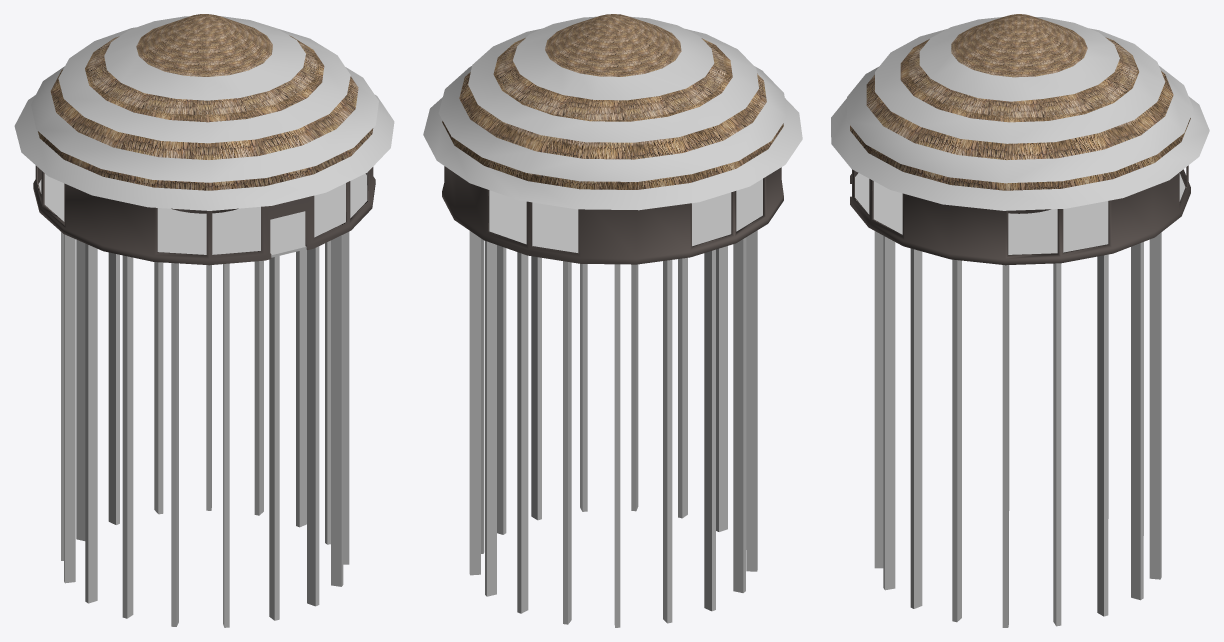
Rendered from Bar Hut.fbx.
The picture shows the model from 3 angles, left to right: view 1: azimuth 30°, elevation 25°; view 2: azimuth 150°, elevation 25°; view 3: azimuth 270°, elevation 25°; orthographic projection.
Visible parts, largest first — view 1: SupportBeam, Grass Edges U, Walls, Grass Edges D, Floor; view 2: SupportBeam, Grass Edges U, Walls, Grass Edges D, Floor; view 3: Grass Edges U, SupportBeam, Walls, Grass Edges D, Floor.
Boxes of the visible parts, x1,y1,x2,y2 form: SupportBeam: (61,232,349,627); Grass Edges U: (14,16,394,210); Walls: (33,14,375,265); Grass Edges D: (14,16,392,210); Floor: (38,173,367,257); SupportBeam: (469,230,757,627); Grass Edges U: (423,16,802,210); Walls: (442,14,783,264); Grass Edges D: (424,16,802,209); Floor: (489,179,762,252); Grass Edges U: (831,17,1209,210); SupportBeam: (874,231,1161,627); Walls: (850,14,1190,265); Grass Edges D: (831,17,1208,210); Floor: (855,173,1185,254).
Size of the model in its own units: 2713 by 4335 by 2706.
